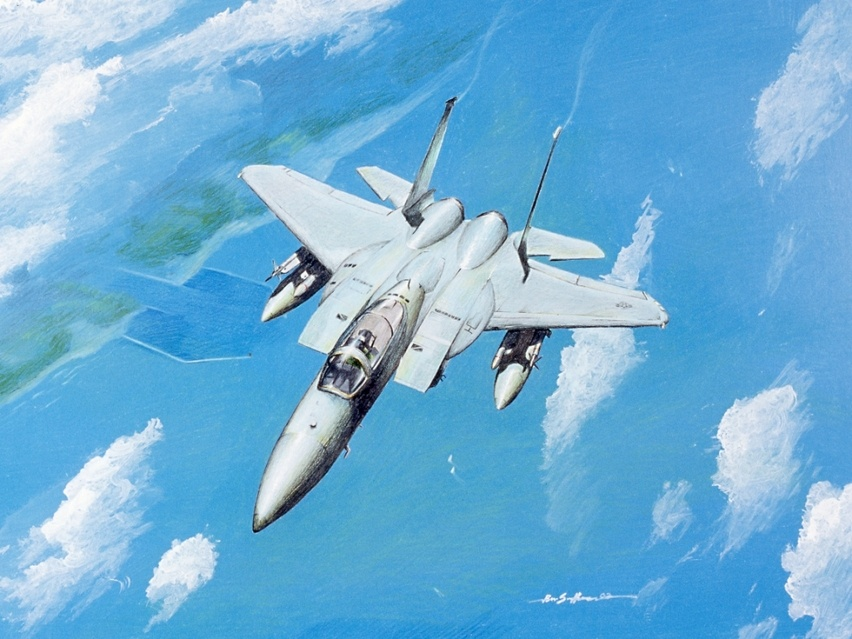airplane: (237, 86, 668, 537)
